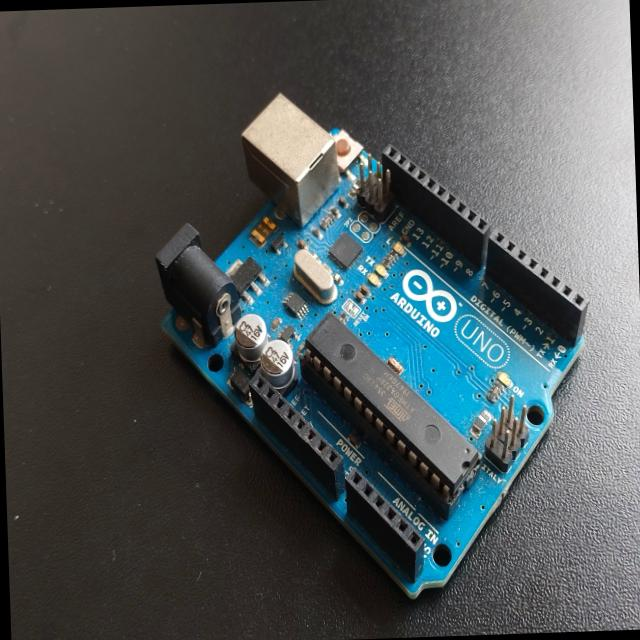arduino: (130, 72, 602, 609)
